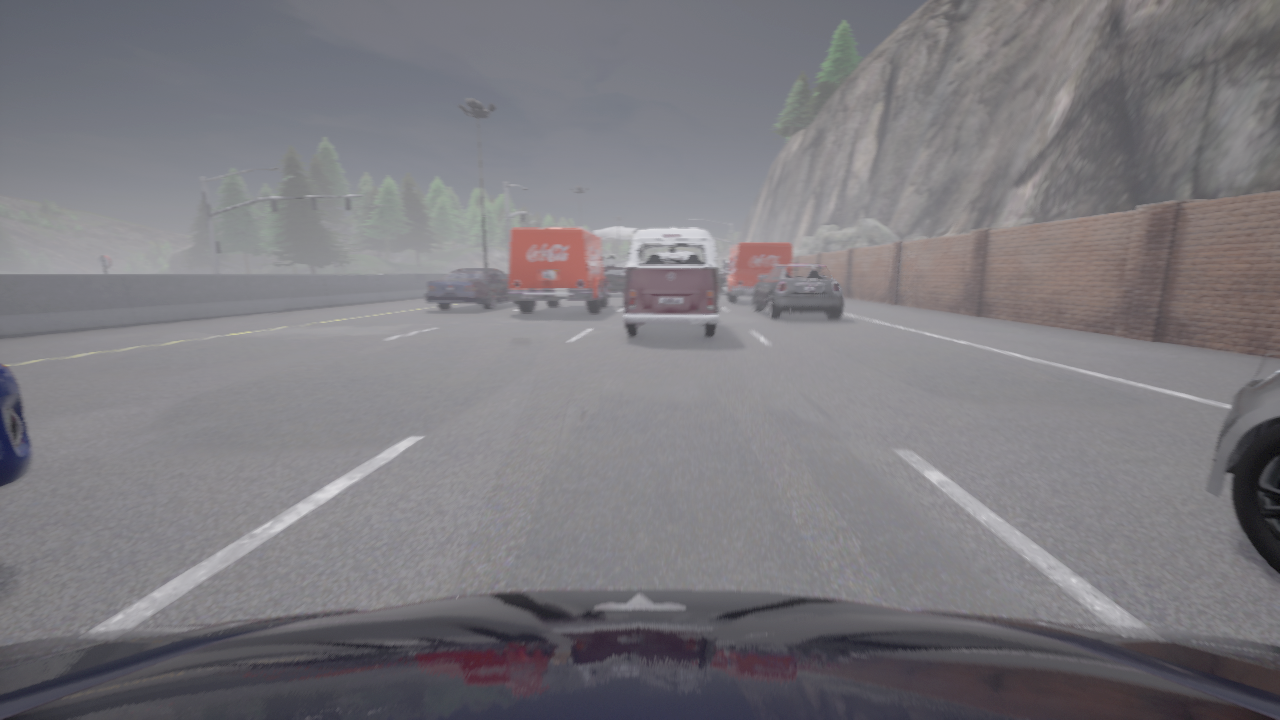cyclist: (0, 588, 1279, 719), (1206, 352, 1279, 573), (622, 227, 719, 336), (508, 227, 613, 312), (753, 264, 843, 319), (722, 243, 791, 302), (425, 268, 517, 309), (718, 260, 752, 295), (604, 266, 625, 293)
